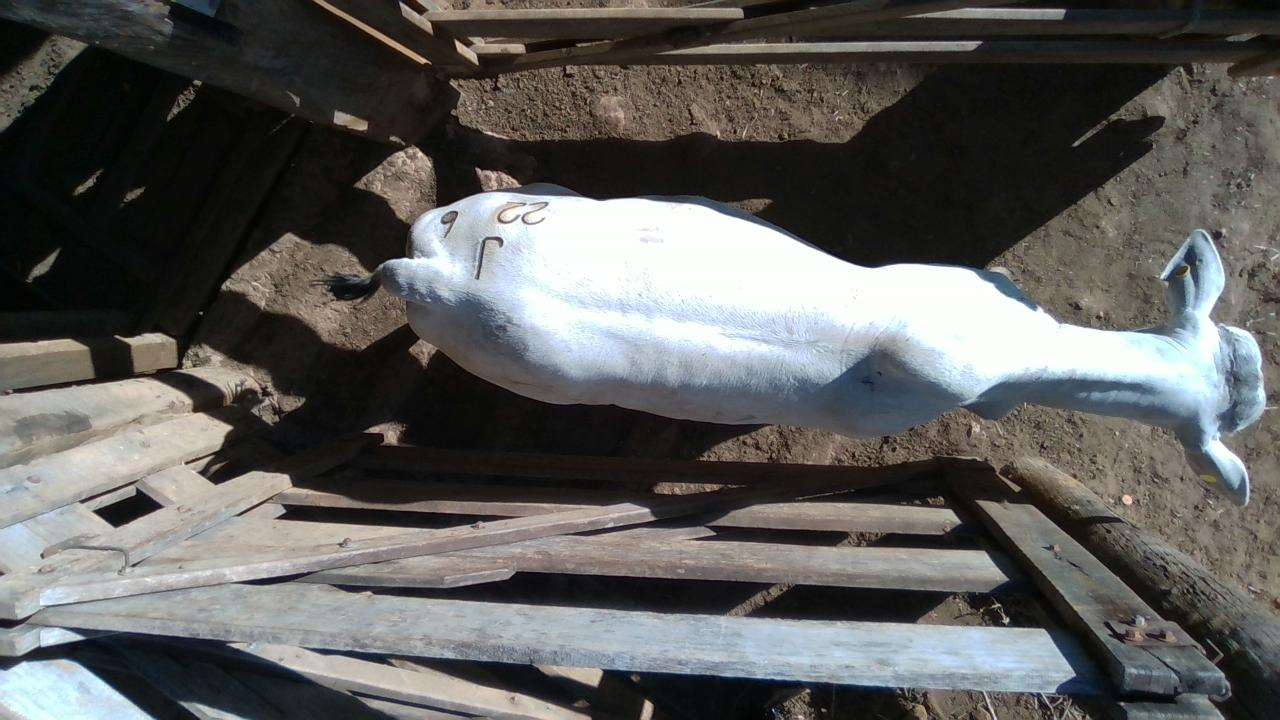cattle: (314, 180, 1266, 507)
